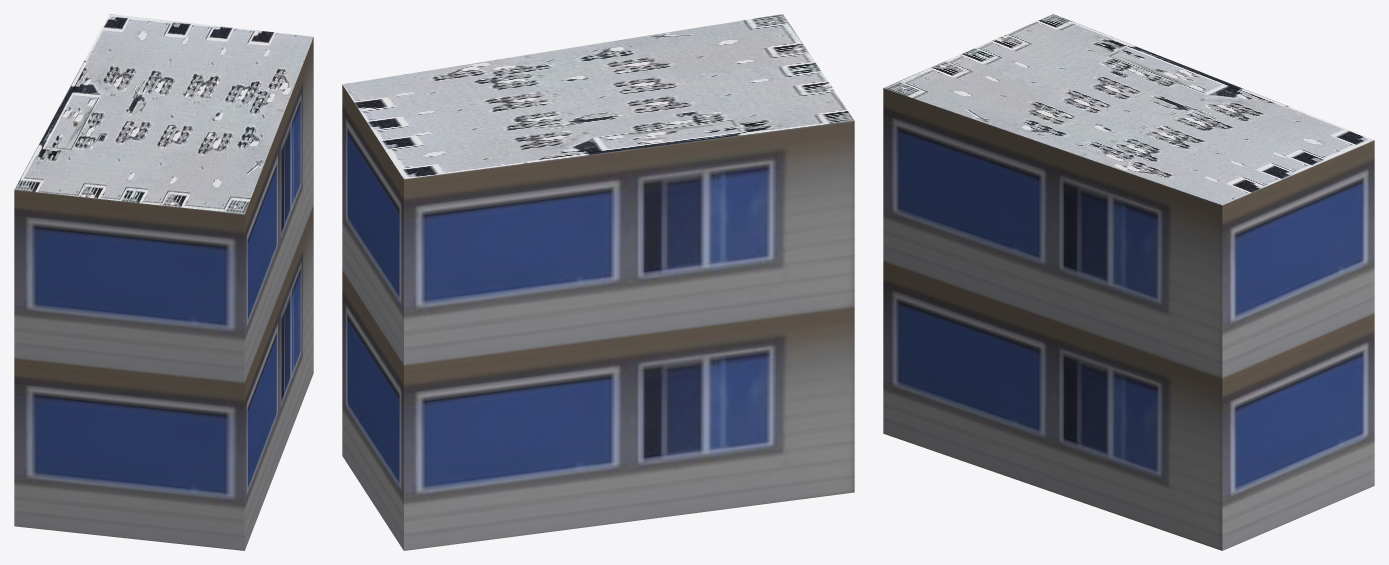
Rendered from ResTex__1371.fbx.
3 views of the same model, side by side, from view 1: azimuth 30°, elevation 25°; view 2: azimuth 150°, elevation 25°; view 3: azimuth 270°, elevation 25° (orthographic). The views are drawn at different scales.
Visible parts, largest first — view 1: CityEngineMaterial_23_m, CityEngineMaterial_4_m; view 2: CityEngineMaterial_23_m, CityEngineMaterial_4_m; view 3: CityEngineMaterial_23_m, CityEngineMaterial_4_m.
Part boxes in pixels (<box>): CityEngineMaterial_23_m: <box>14,37,313,550</box>; CityEngineMaterial_4_m: <box>14,14,313,214</box>; CityEngineMaterial_23_m: <box>342,84,854,550</box>; CityEngineMaterial_4_m: <box>342,14,854,179</box>; CityEngineMaterial_23_m: <box>883,88,1374,550</box>; CityEngineMaterial_4_m: <box>884,14,1374,205</box>.
Size of the model in its own units: 7.12 by 6 by 7.73.
Materials: 2 (2 with a texture image).
